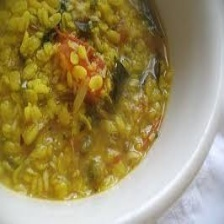dal: (0, 0, 173, 208)
